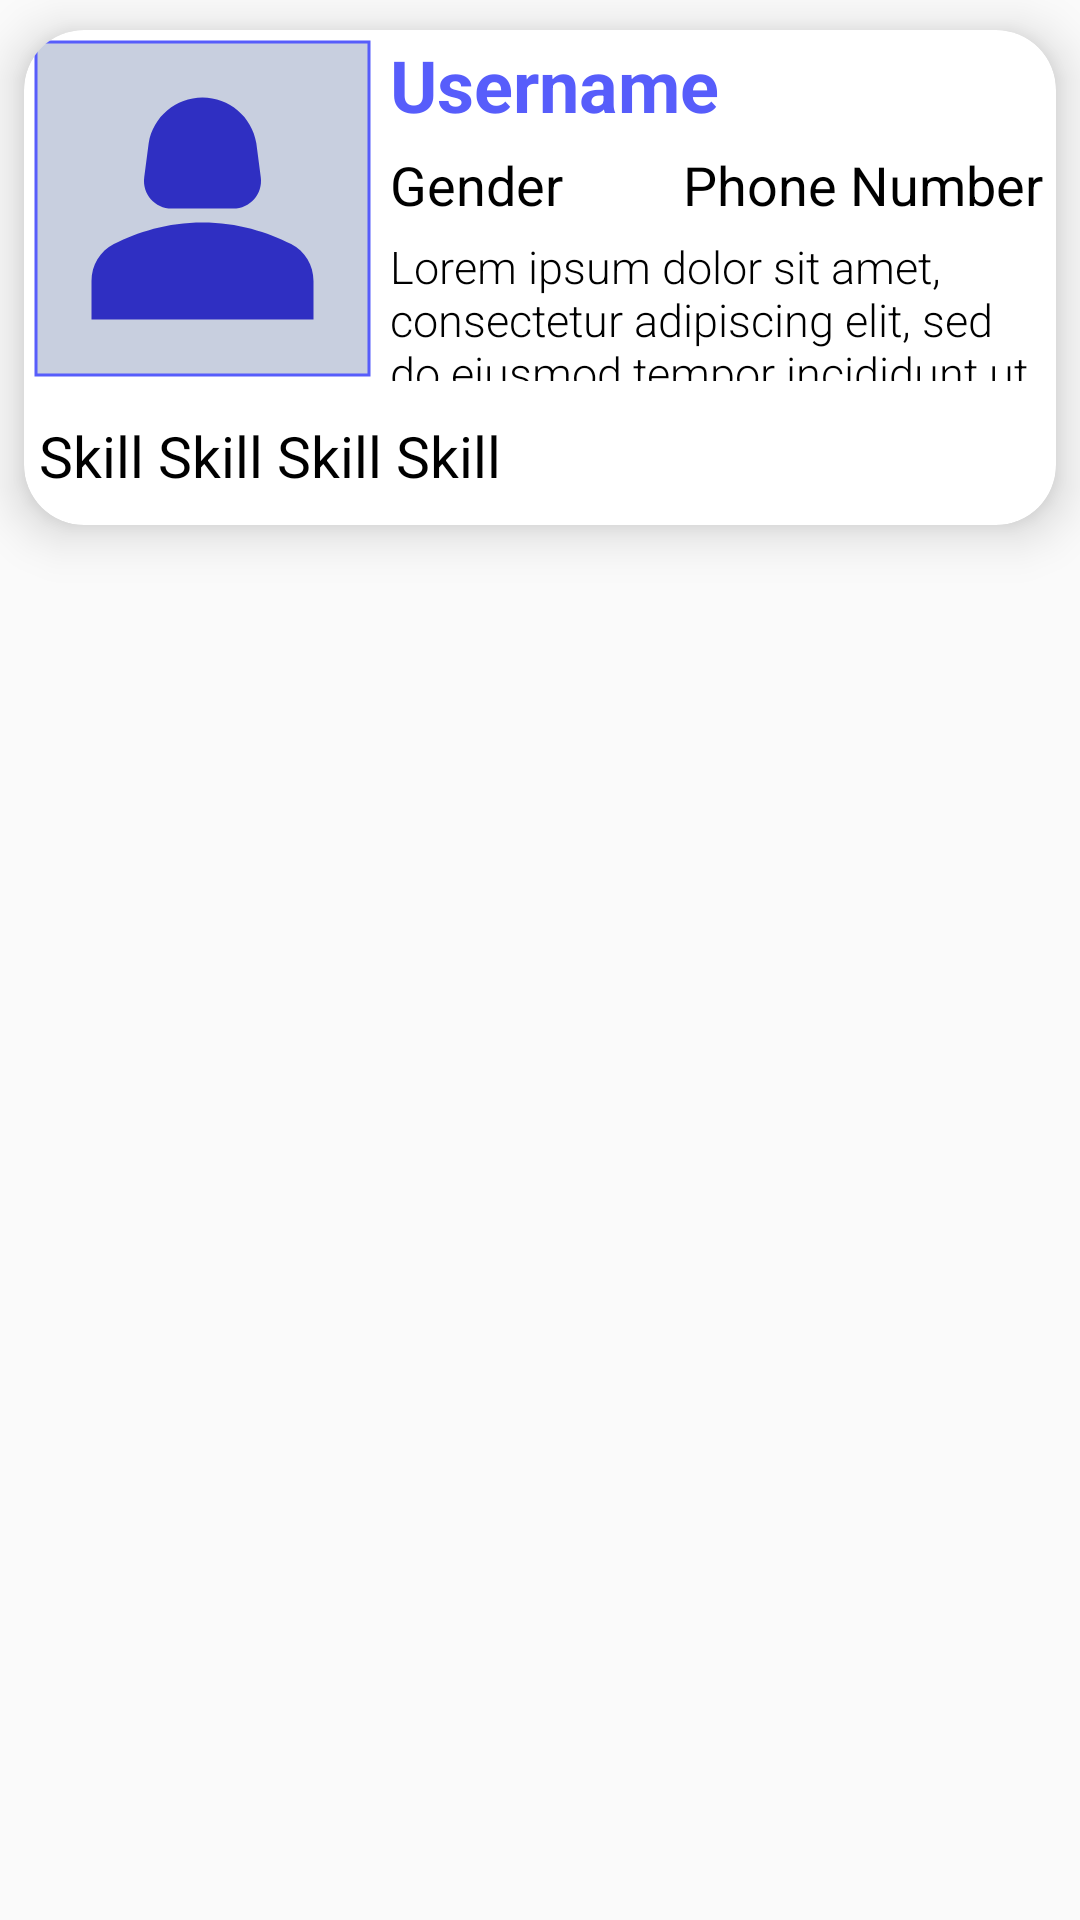

Where to tap for icons on this 1080px x 1920px app screen, as (x,y):
person: (200,206)
